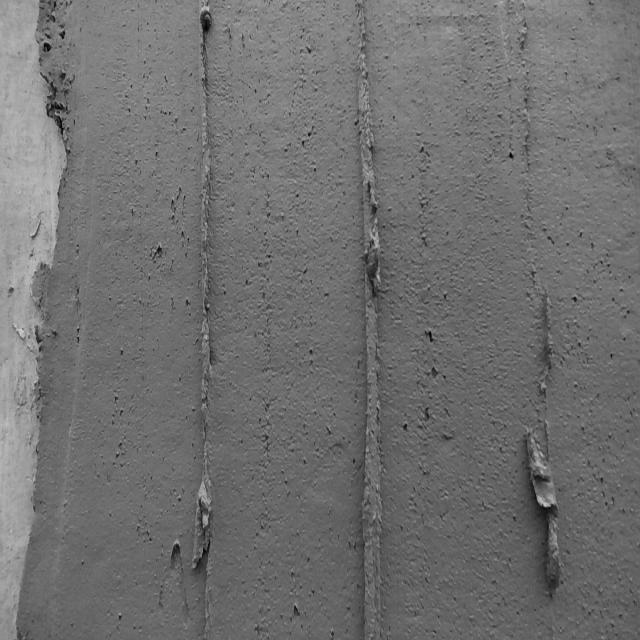trowels marks: (186, 1, 218, 628), (352, 3, 382, 640), (530, 285, 565, 602)
